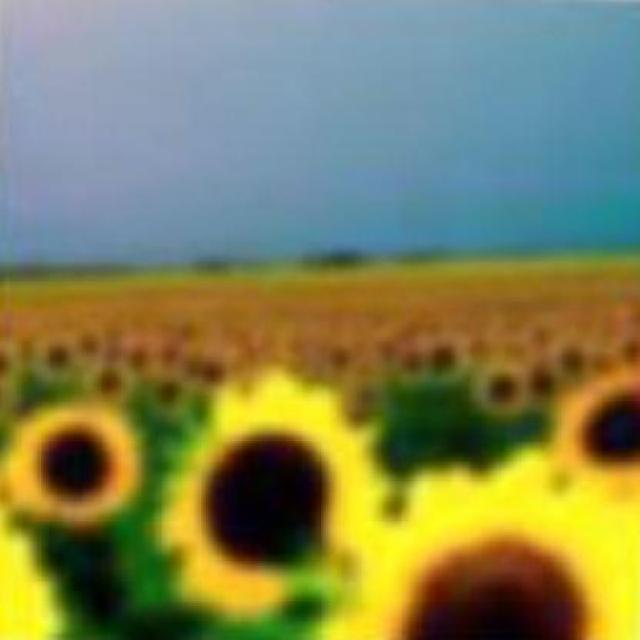sunflower: (156, 378, 407, 612)
